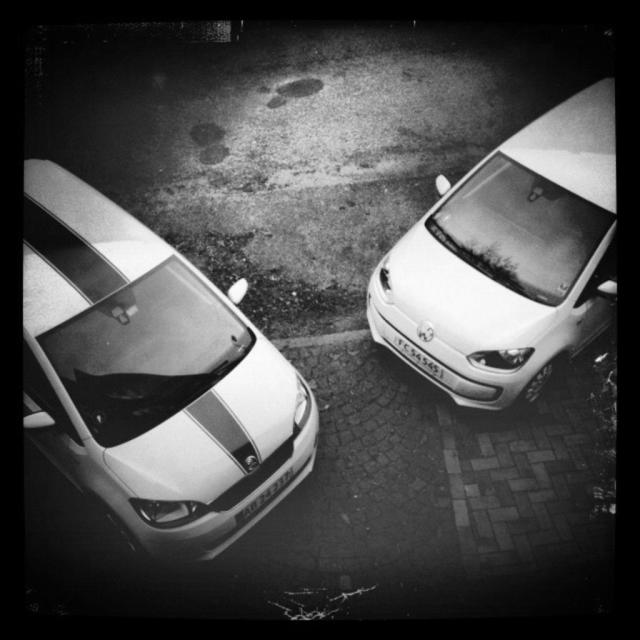plate: (243, 467, 297, 521), (393, 332, 444, 379)
